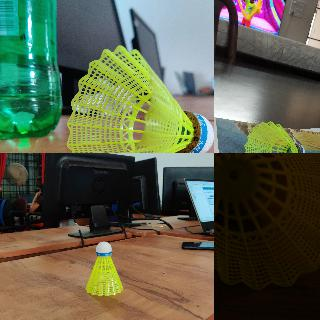shuttlecock: (66, 43, 213, 152), (214, 153, 319, 290), (85, 240, 123, 296), (244, 121, 305, 152)
